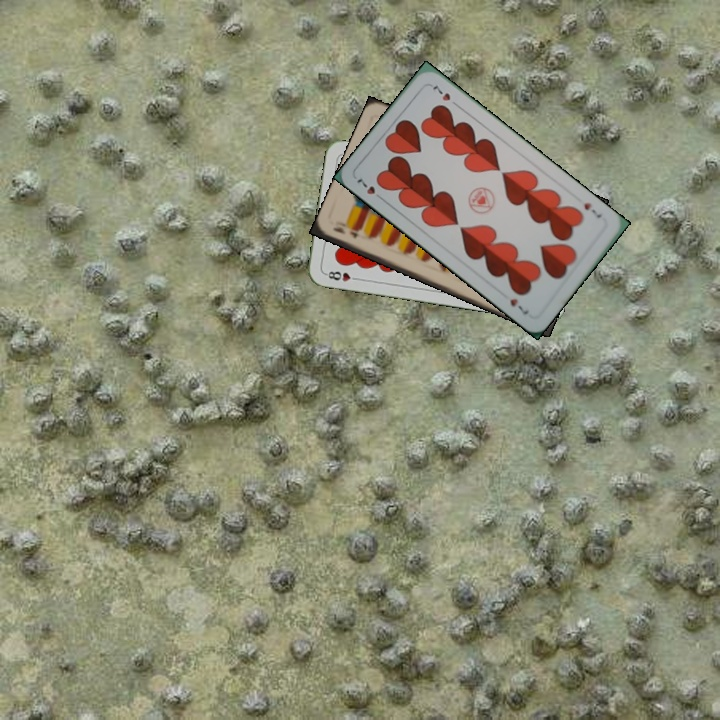E10: (329, 223, 362, 241)
H7: (353, 174, 386, 203), (580, 198, 604, 221)
H8: (321, 267, 362, 284)
